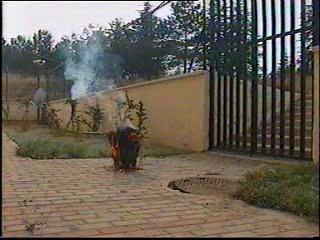smoke: (63, 43, 137, 107)
